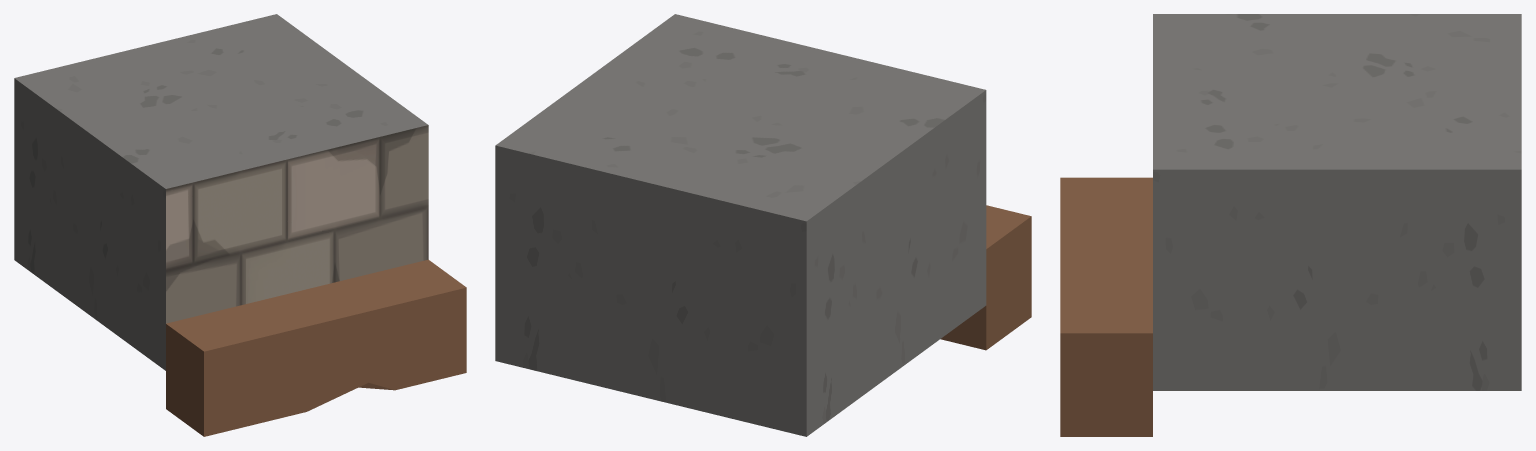
Rendered from SM_Bld_Tunnel_Curved_Roof_End_02.fbx.
The picture shows the model from 3 angles, left to right: view 1: azimuth 30°, elevation 25°; view 2: azimuth 150°, elevation 25°; view 3: azimuth 270°, elevation 25°; orthographic projection. The views are drawn at different scales.
Parts seen in each view (by area): view 1: SM_Bld_Tunnel_Curved_Roof_End_02; view 2: SM_Bld_Tunnel_Curved_Roof_End_02; view 3: SM_Bld_Tunnel_Curved_Roof_End_02.
Boxes of the visible parts, bbox=[...] form: SM_Bld_Tunnel_Curved_Roof_End_02: bbox=[14, 14, 466, 436]; SM_Bld_Tunnel_Curved_Roof_End_02: bbox=[495, 14, 1031, 436]; SM_Bld_Tunnel_Curved_Roof_End_02: bbox=[1060, 14, 1521, 436].
Bounding box in the file's own units: 125 × 100 × 157.
